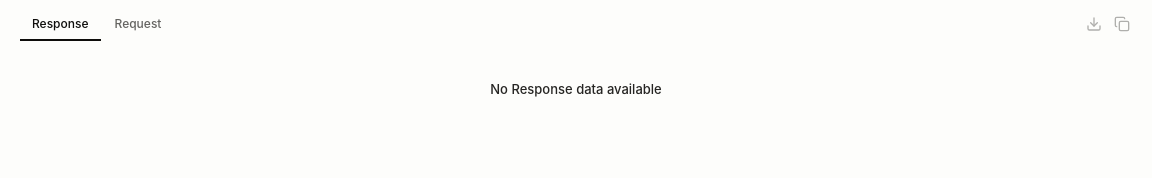
Test: RawJsonView › redacts an API key embedded in the request URL query string
The image size is (1152, 178).
Click the tab "Request" at coordinates (138, 24), box [102, 12, 174, 36]
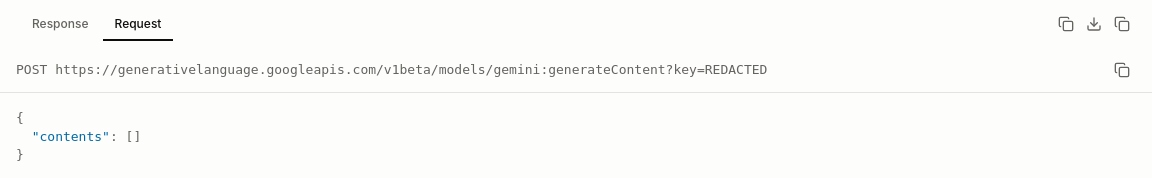
Now the text "key=REDACTED" is shown, box [55, 62, 767, 77]
